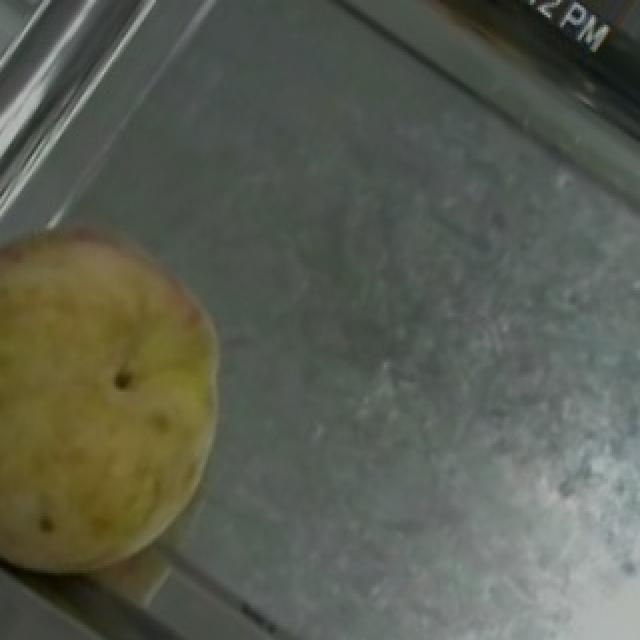Fruit: (0, 178, 272, 526)
